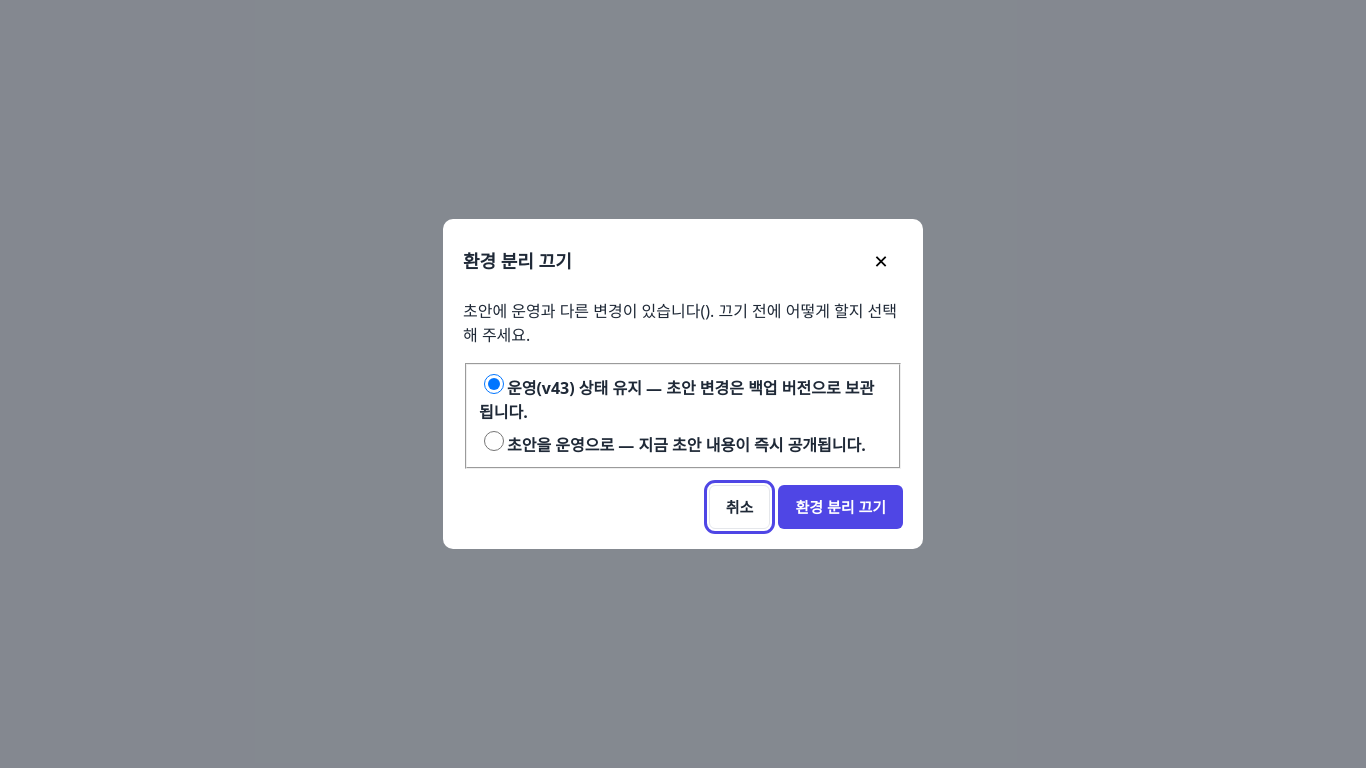
Test: EnvironmentDisableDialog › ENV_DRAFT_NOT_RESTORED 409면 1단계부터 재시도하라는 오류를 보여준다
Step 1. Click the button "환경 분리 끄기" → (841,507), box [778,485,903,529]
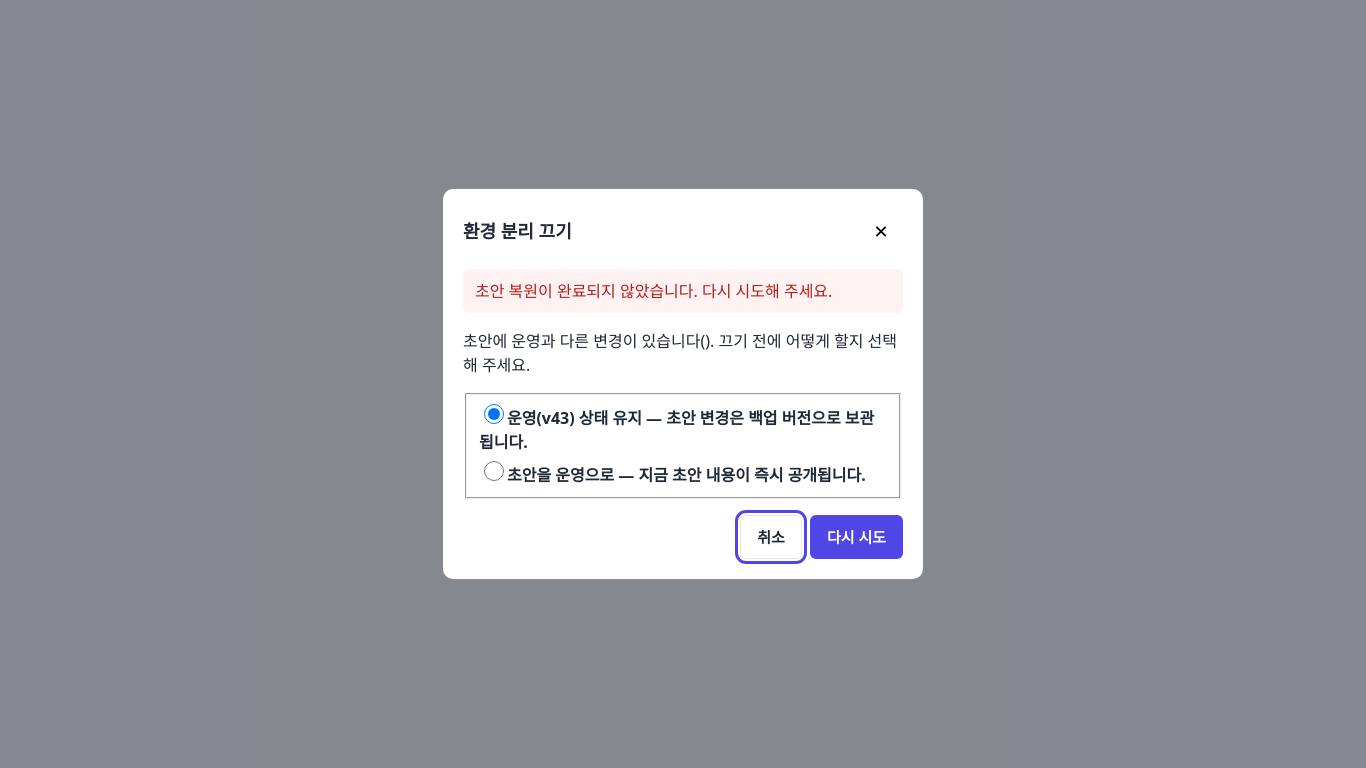
Expected: the text "초안 복원이 완료되지 않았습니다. 다시 시도해 주세요." is shown, [463,269,903,313]
Expected: the button "다시 시도" is shown, [810,515,903,559]
